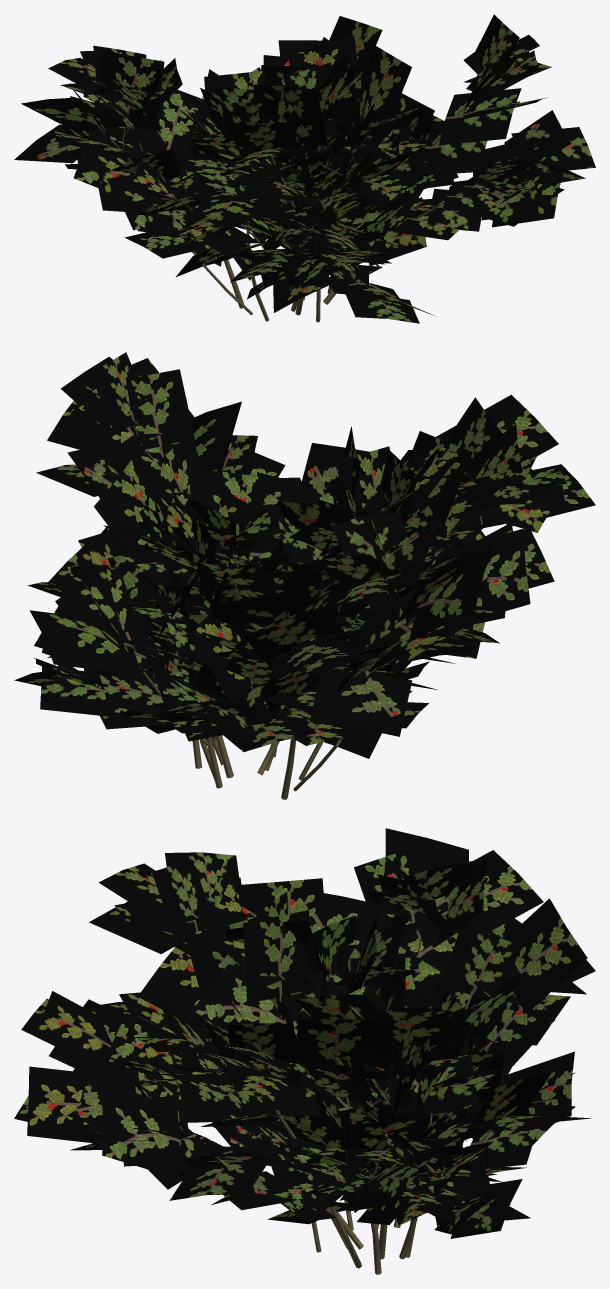
Rendered from sipek_2.glb.
3 views of the same model, one above another, from view 1: azimuth 30°, elevation 25°; view 2: azimuth 150°, elevation 25°; view 3: azimuth 270°, elevation 25° (orthographic). The views are drawn at different scales.
Parts seen in each view (by area): view 1: sipek_2; view 2: sipek_2; view 3: sipek_2.
Part boxes in pixels (box(x1,y1,x2,y2)): sipek_2: box(14, 14, 595, 323); sipek_2: box(14, 352, 595, 799); sipek_2: box(14, 828, 595, 1274).
Size of the model in its own units: 3.22 by 1.83 by 2.97.
2 materials, 2 textured.
